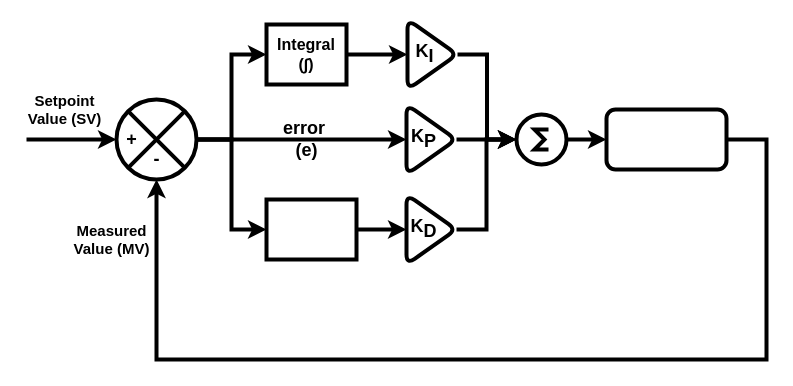
The diagram is 793 pixels wide and 386 high, and some of its shapes have lost their labels. Here are the shapes that lost their labels. From the top down, the centre of each, then its label:
pixel 666 139: Plant
pixel 311 229: Differential ( de/ dt )
